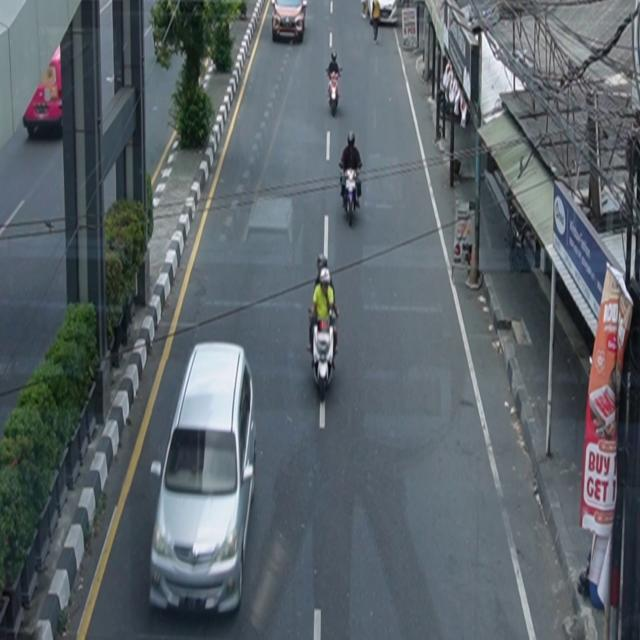car: (149, 342, 258, 617), (271, 1, 308, 44)
